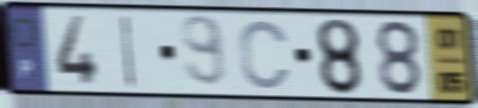4: (53, 13, 103, 89)
8: (373, 18, 424, 98), (315, 16, 364, 97)
9: (180, 12, 229, 95)
C: (237, 17, 294, 93)
I: (119, 13, 138, 91)
